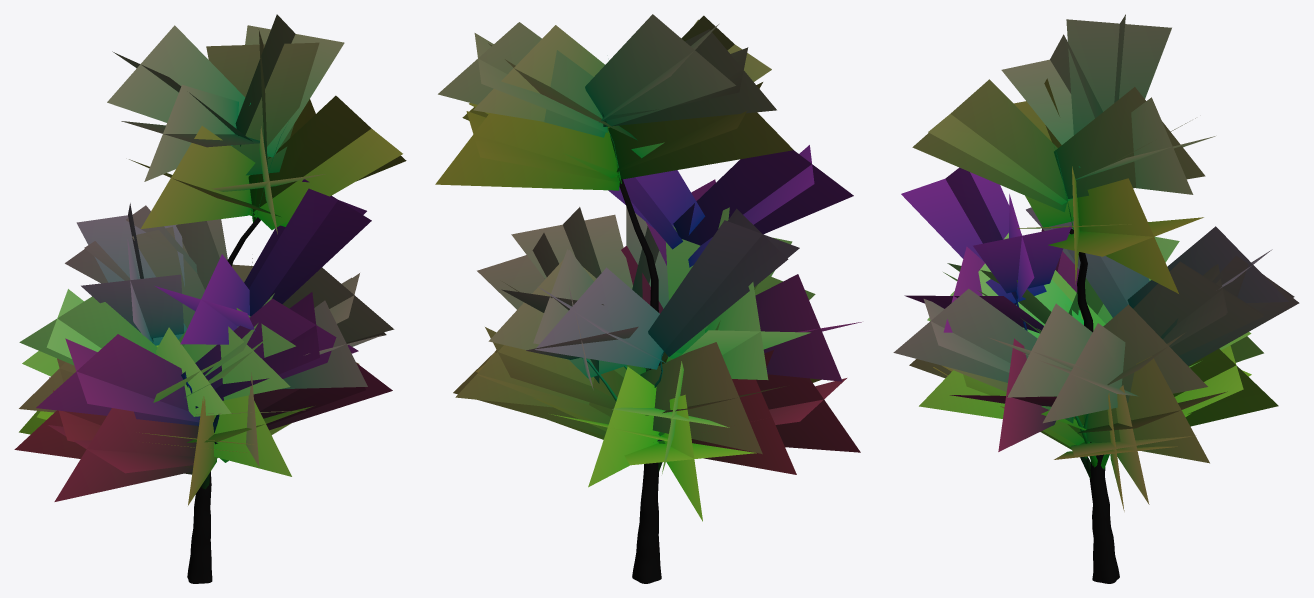
Rendered from M_Realistic21_13.fbx.
The picture shows the model from 3 angles, left to right: view 1: azimuth 30°, elevation 25°; view 2: azimuth 150°, elevation 25°; view 3: azimuth 270°, elevation 25°; orthographic projection. The views are drawn at different scales.
Parts seen in each view (by area): view 1: Tree_13; view 2: Tree_13; view 3: Tree_13.
Boxes of the visible parts, x1,y1,x2,y2 form: Tree_13: (14, 14, 406, 583); Tree_13: (435, 14, 861, 583); Tree_13: (893, 14, 1299, 583).
Bounding box in the file's own units: 817 × 1169 × 773.
